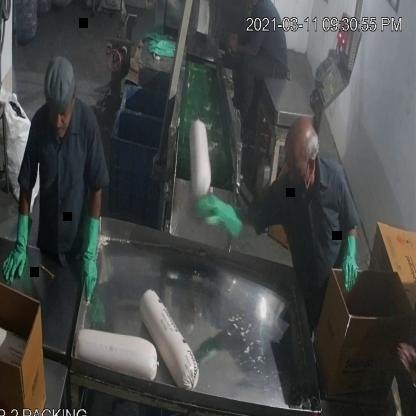glove: (197, 178, 240, 254), (0, 214, 38, 284), (78, 215, 102, 306), (341, 232, 363, 296)
